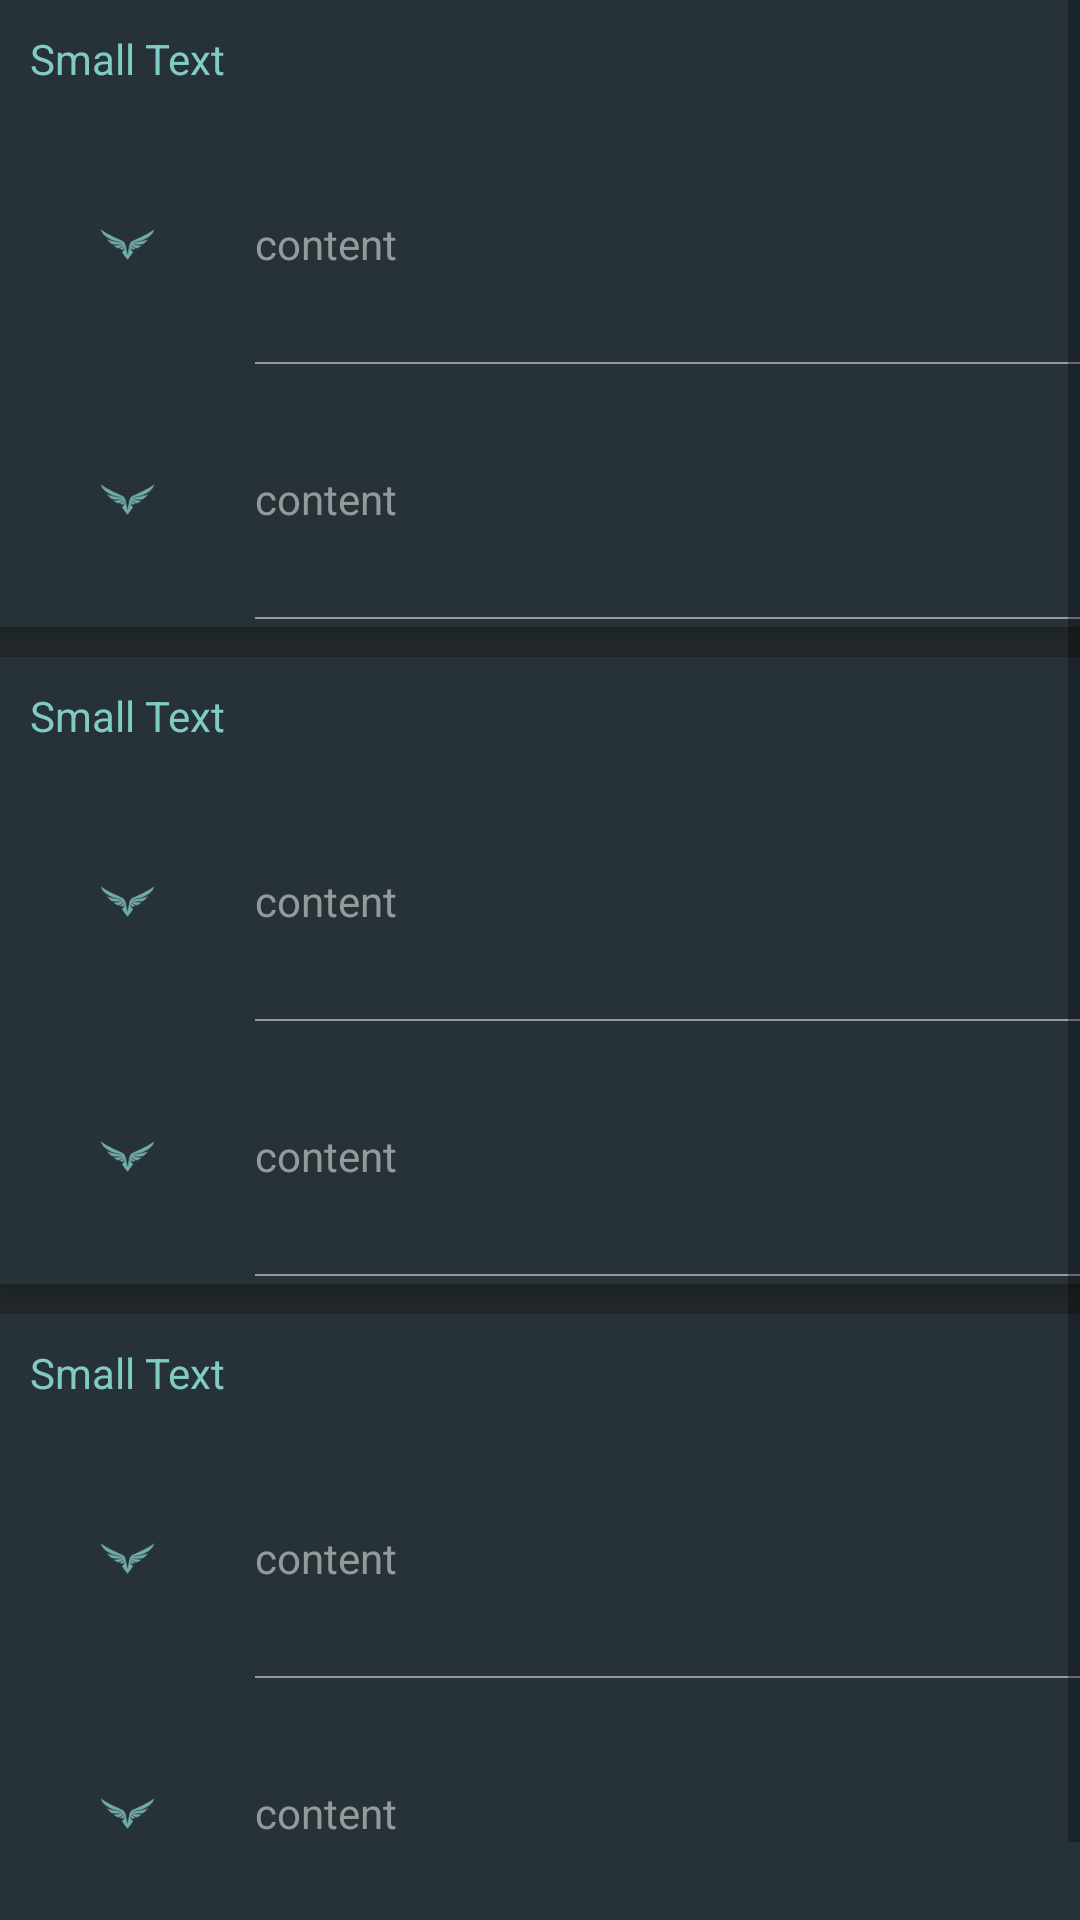

Icon bounding boxes for this 1080×1920 phone screenshot, format (x1,y1,x2,y2):
falcon: (101,229,154,260), (101,484,154,515), (101,886,154,917), (101,1141,154,1172), (101,1543,154,1574), (101,1798,154,1829)
